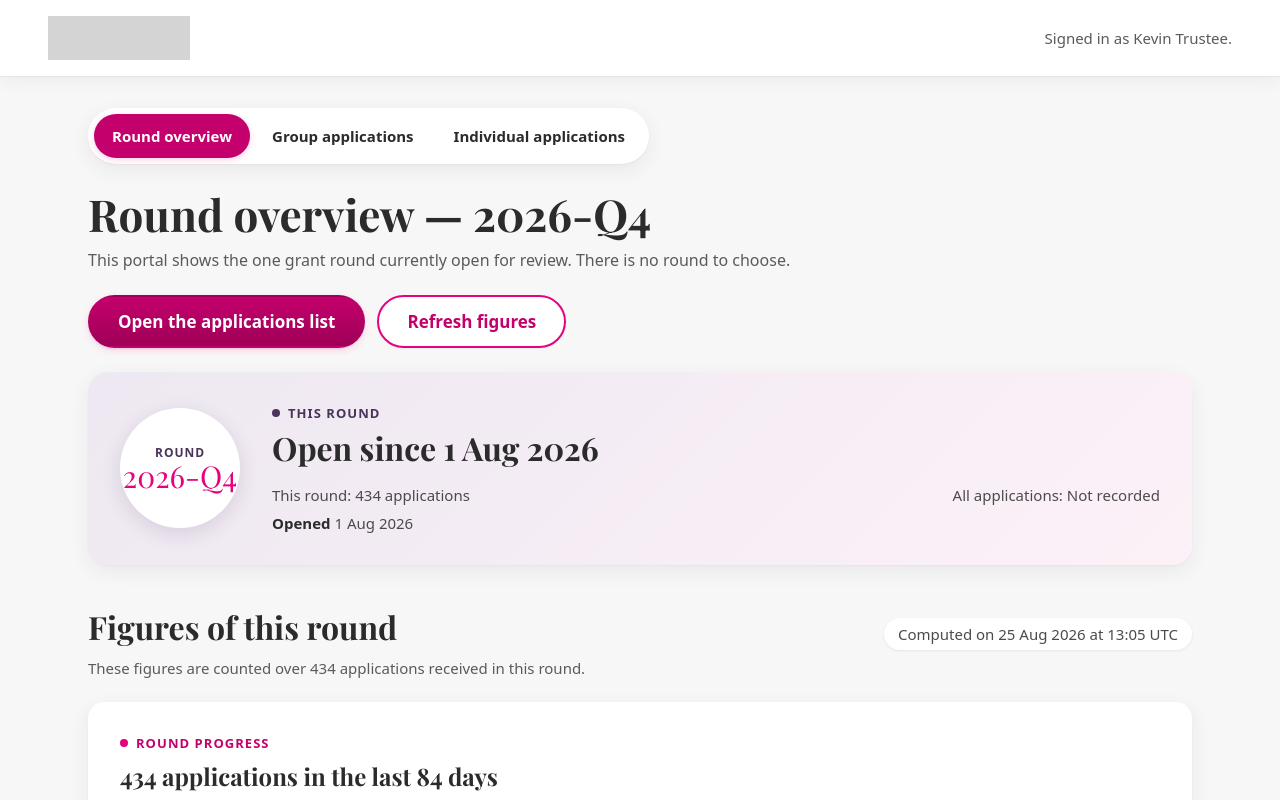
Test: App › shows one h1 on the landing screen and one on the list
Step 1. Click the button "Open the applications list" → (227,321), box [88,295,365,348]
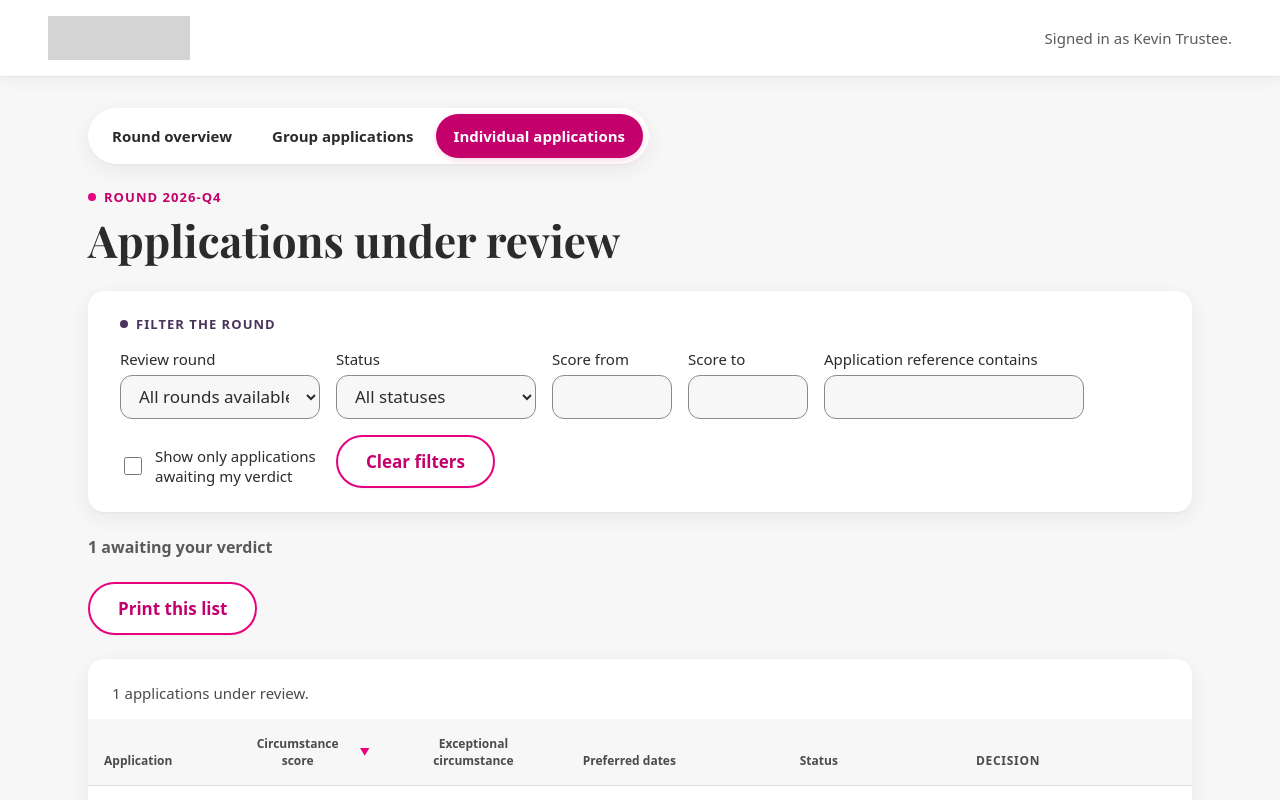
Check: the number of headings is 1, box [88,210,620,269]
Check: the heading reads "Applications under review", box [88,210,620,269]
